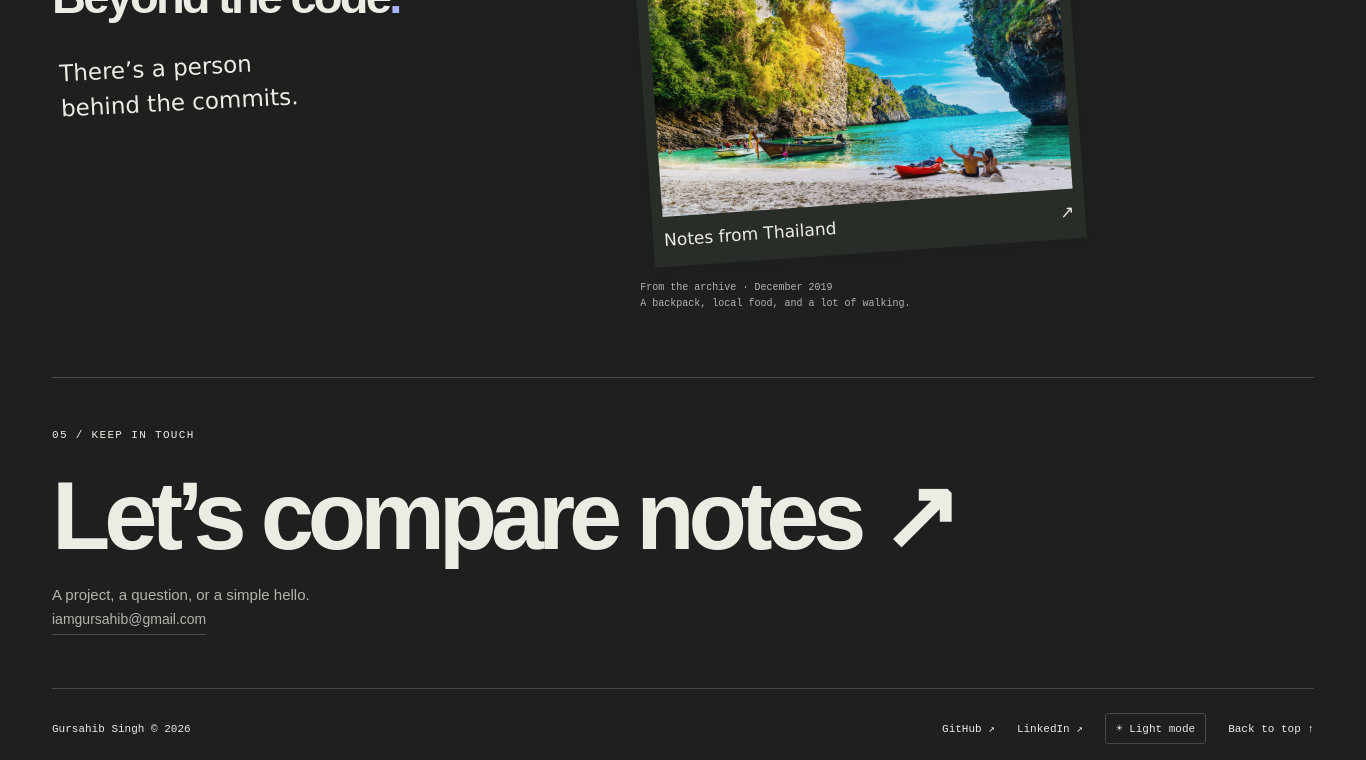
it: theme preference stays consistent when navigating to the real travel article
The image size is (1366, 760).
(page scrolled)
Click the button with aria-label "Switch to light theme" at (1156, 729), box [1105,713,1206,744]
(page scrolled)
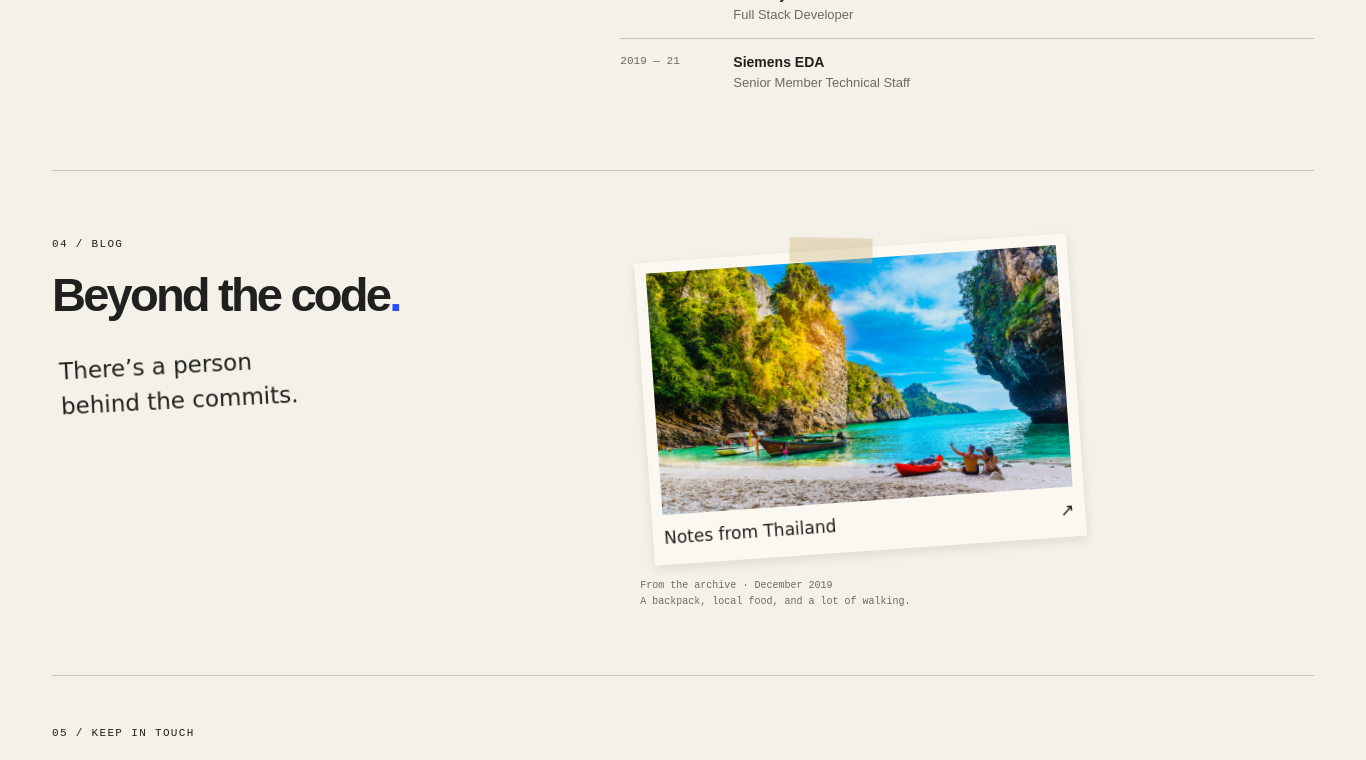
Click the link "Notes from Thailand ↗" at (860, 400), box [634,234,1087,566]
(page scrolled)
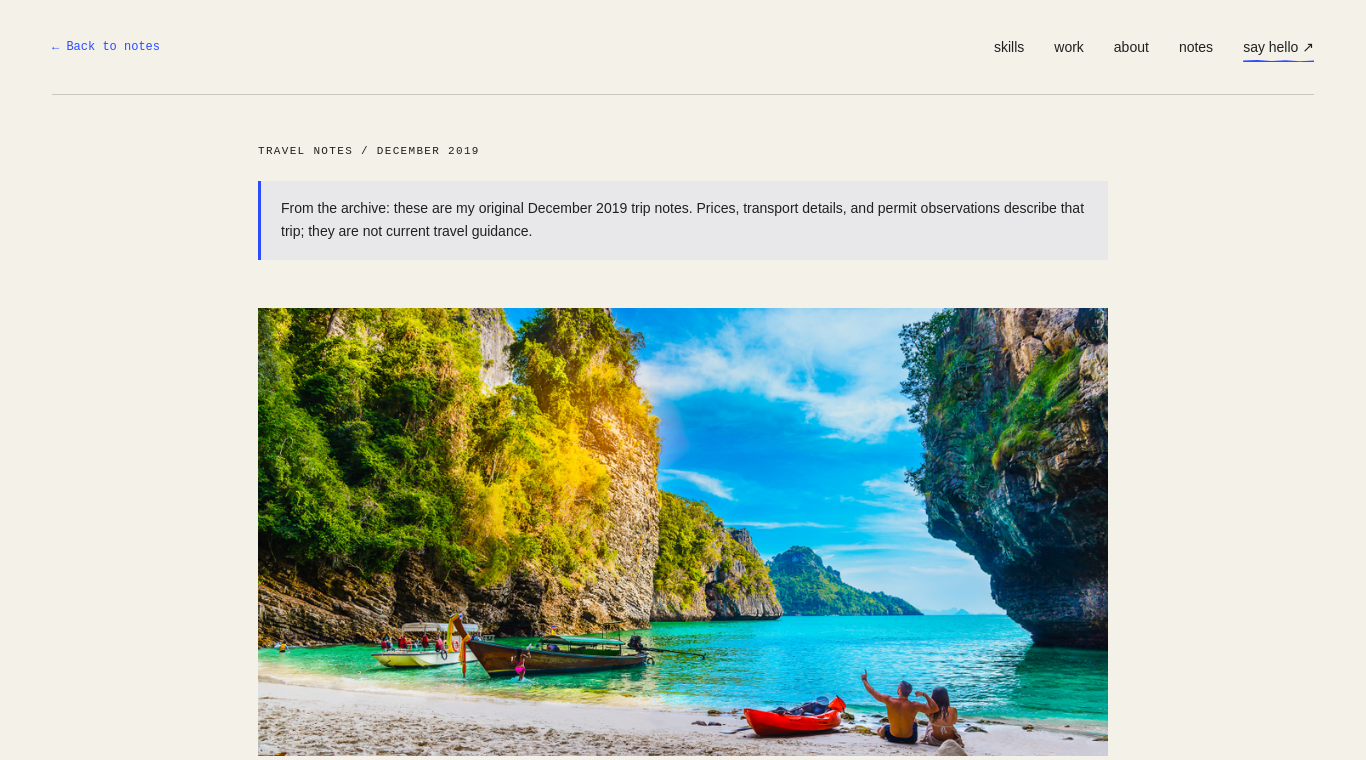
expect the text "From the archive: these are my original" is shown: met, box [281,200,1084,239]
